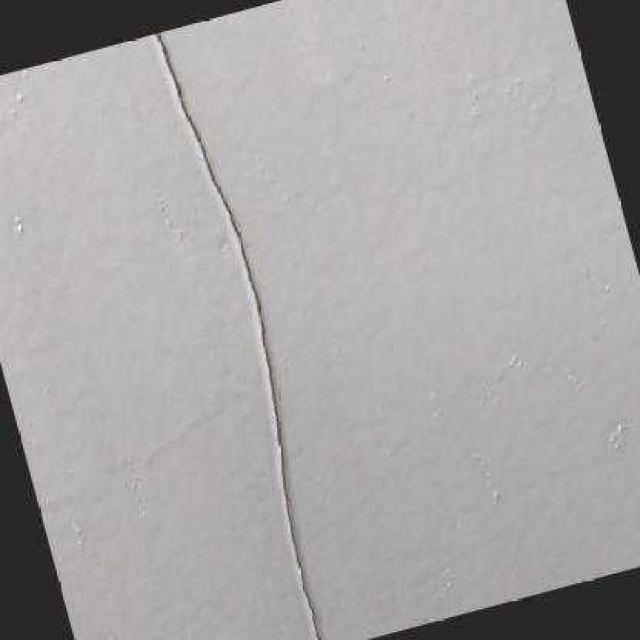D00: (155, 32, 321, 640)
